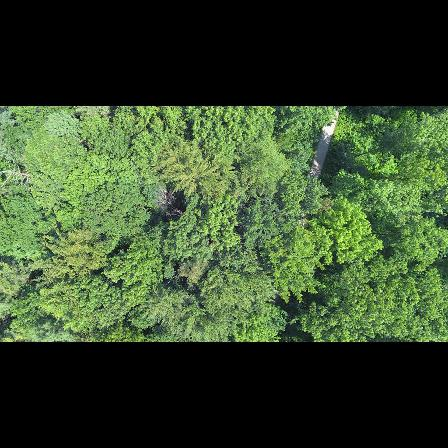Dead: (155, 189, 183, 227)
